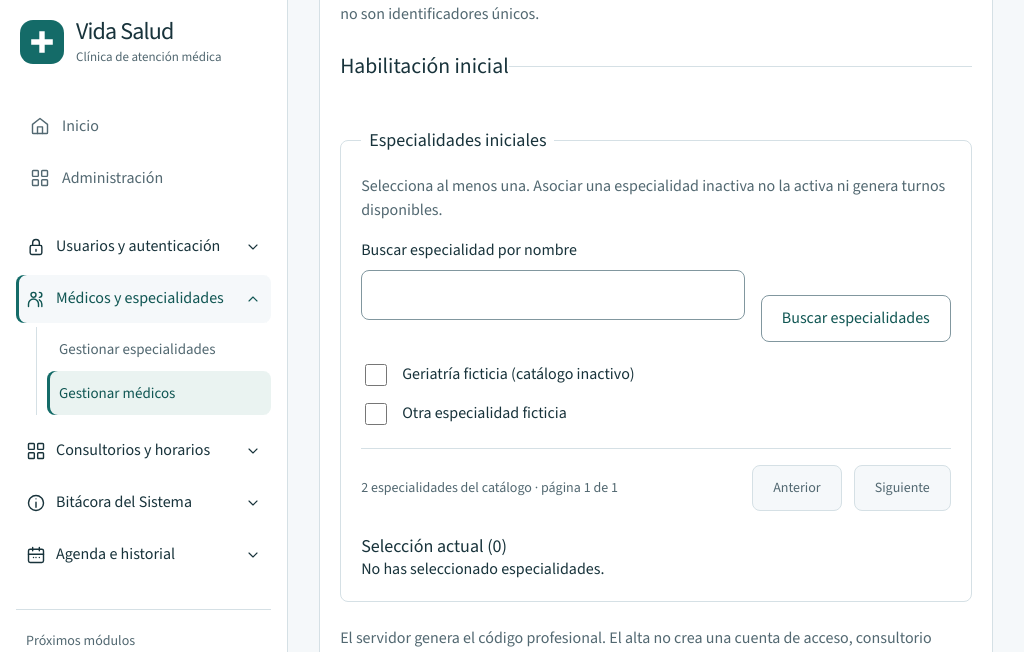
Test case: datos profesionales y alta CU-10 fase 3 › búsqueda de especialidades con Enter no envía el alta, conserva selección y permite quitar
The image size is (1024, 652).
(page scrolled)
Click the checkbox labelled "Geriatría ficticia (catálogo inactivo)" at (376, 375), box [365,364,387,386]
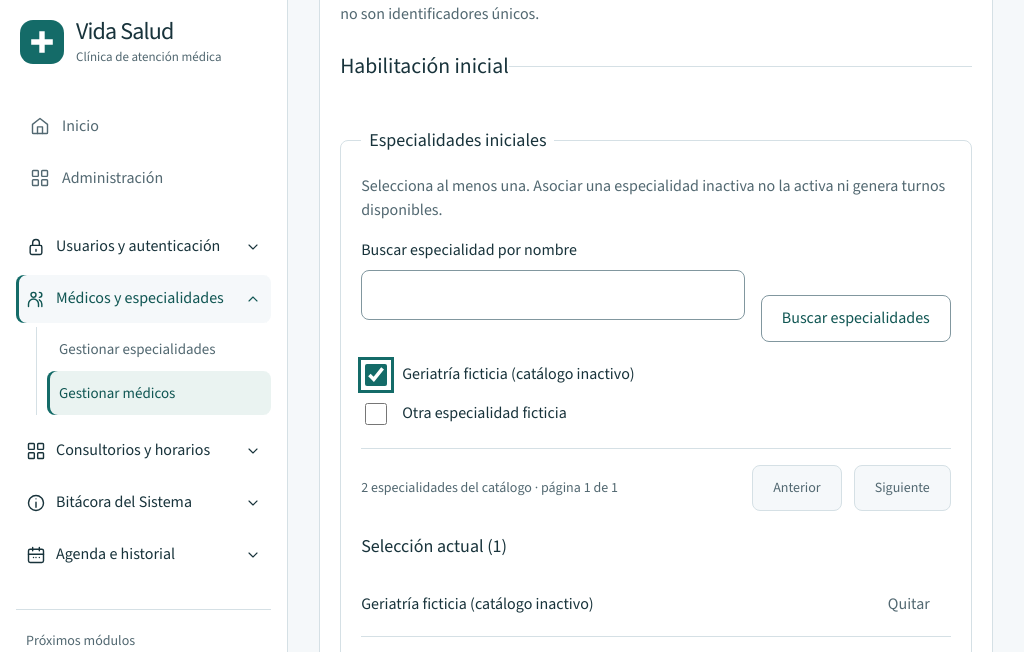
Type " Otra" into the field labelled "Buscar especialidad por nombre" at (553, 295), box [361,270,745,320]
Then press Enter
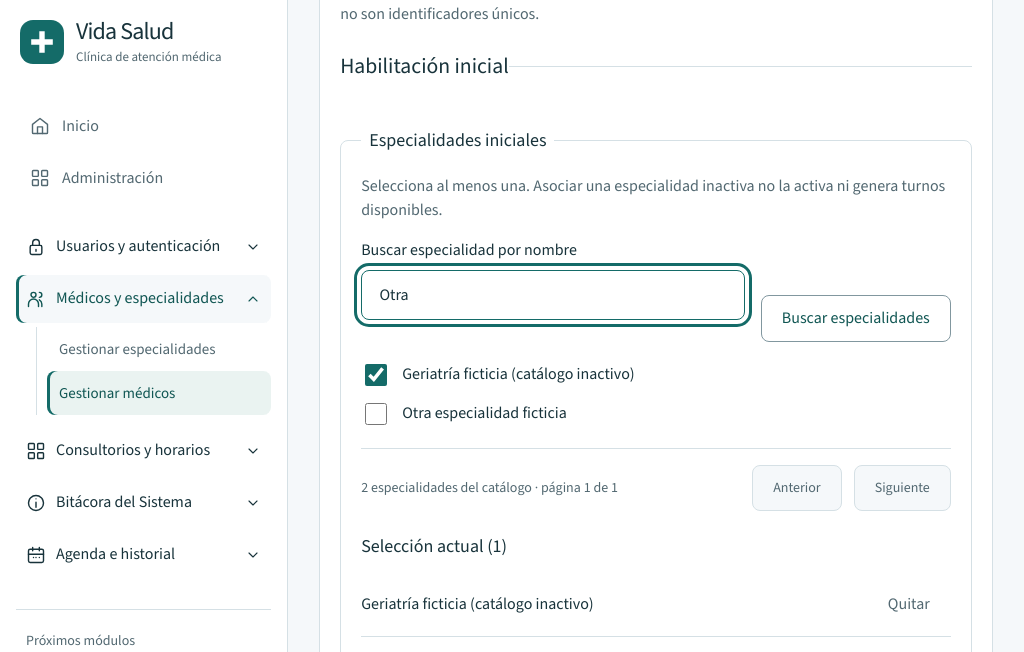
Click the button with aria-label "Quitar Geriatría ficticia" at (909, 604), box [867,581,951,628]
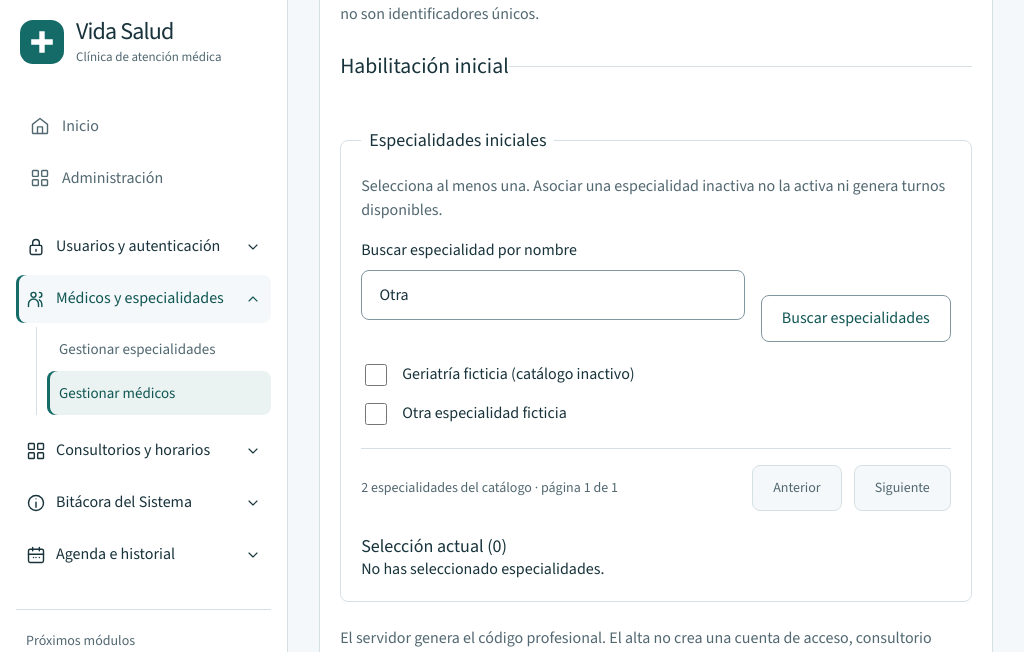
Expected: the text "No has seleccionado especialidades." is shown, [361,558,604,579]
